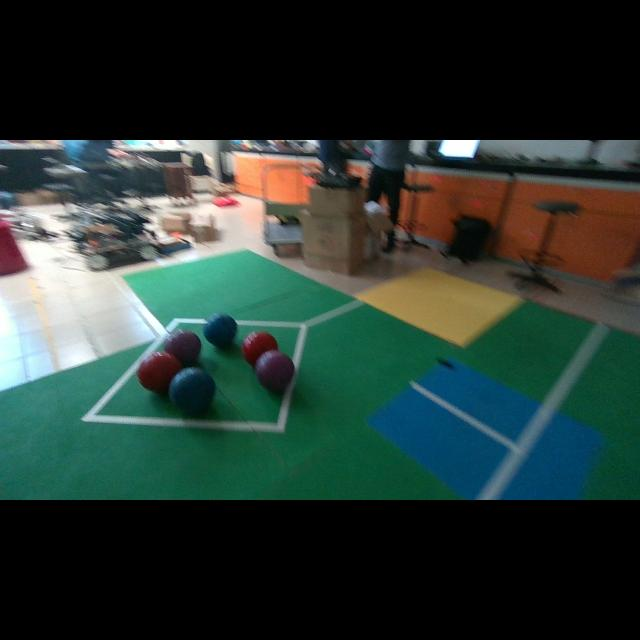B: (169, 368, 215, 414), (204, 314, 238, 348)
P: (256, 350, 295, 392), (164, 330, 201, 366)
R: (138, 351, 181, 392), (241, 331, 278, 366)
